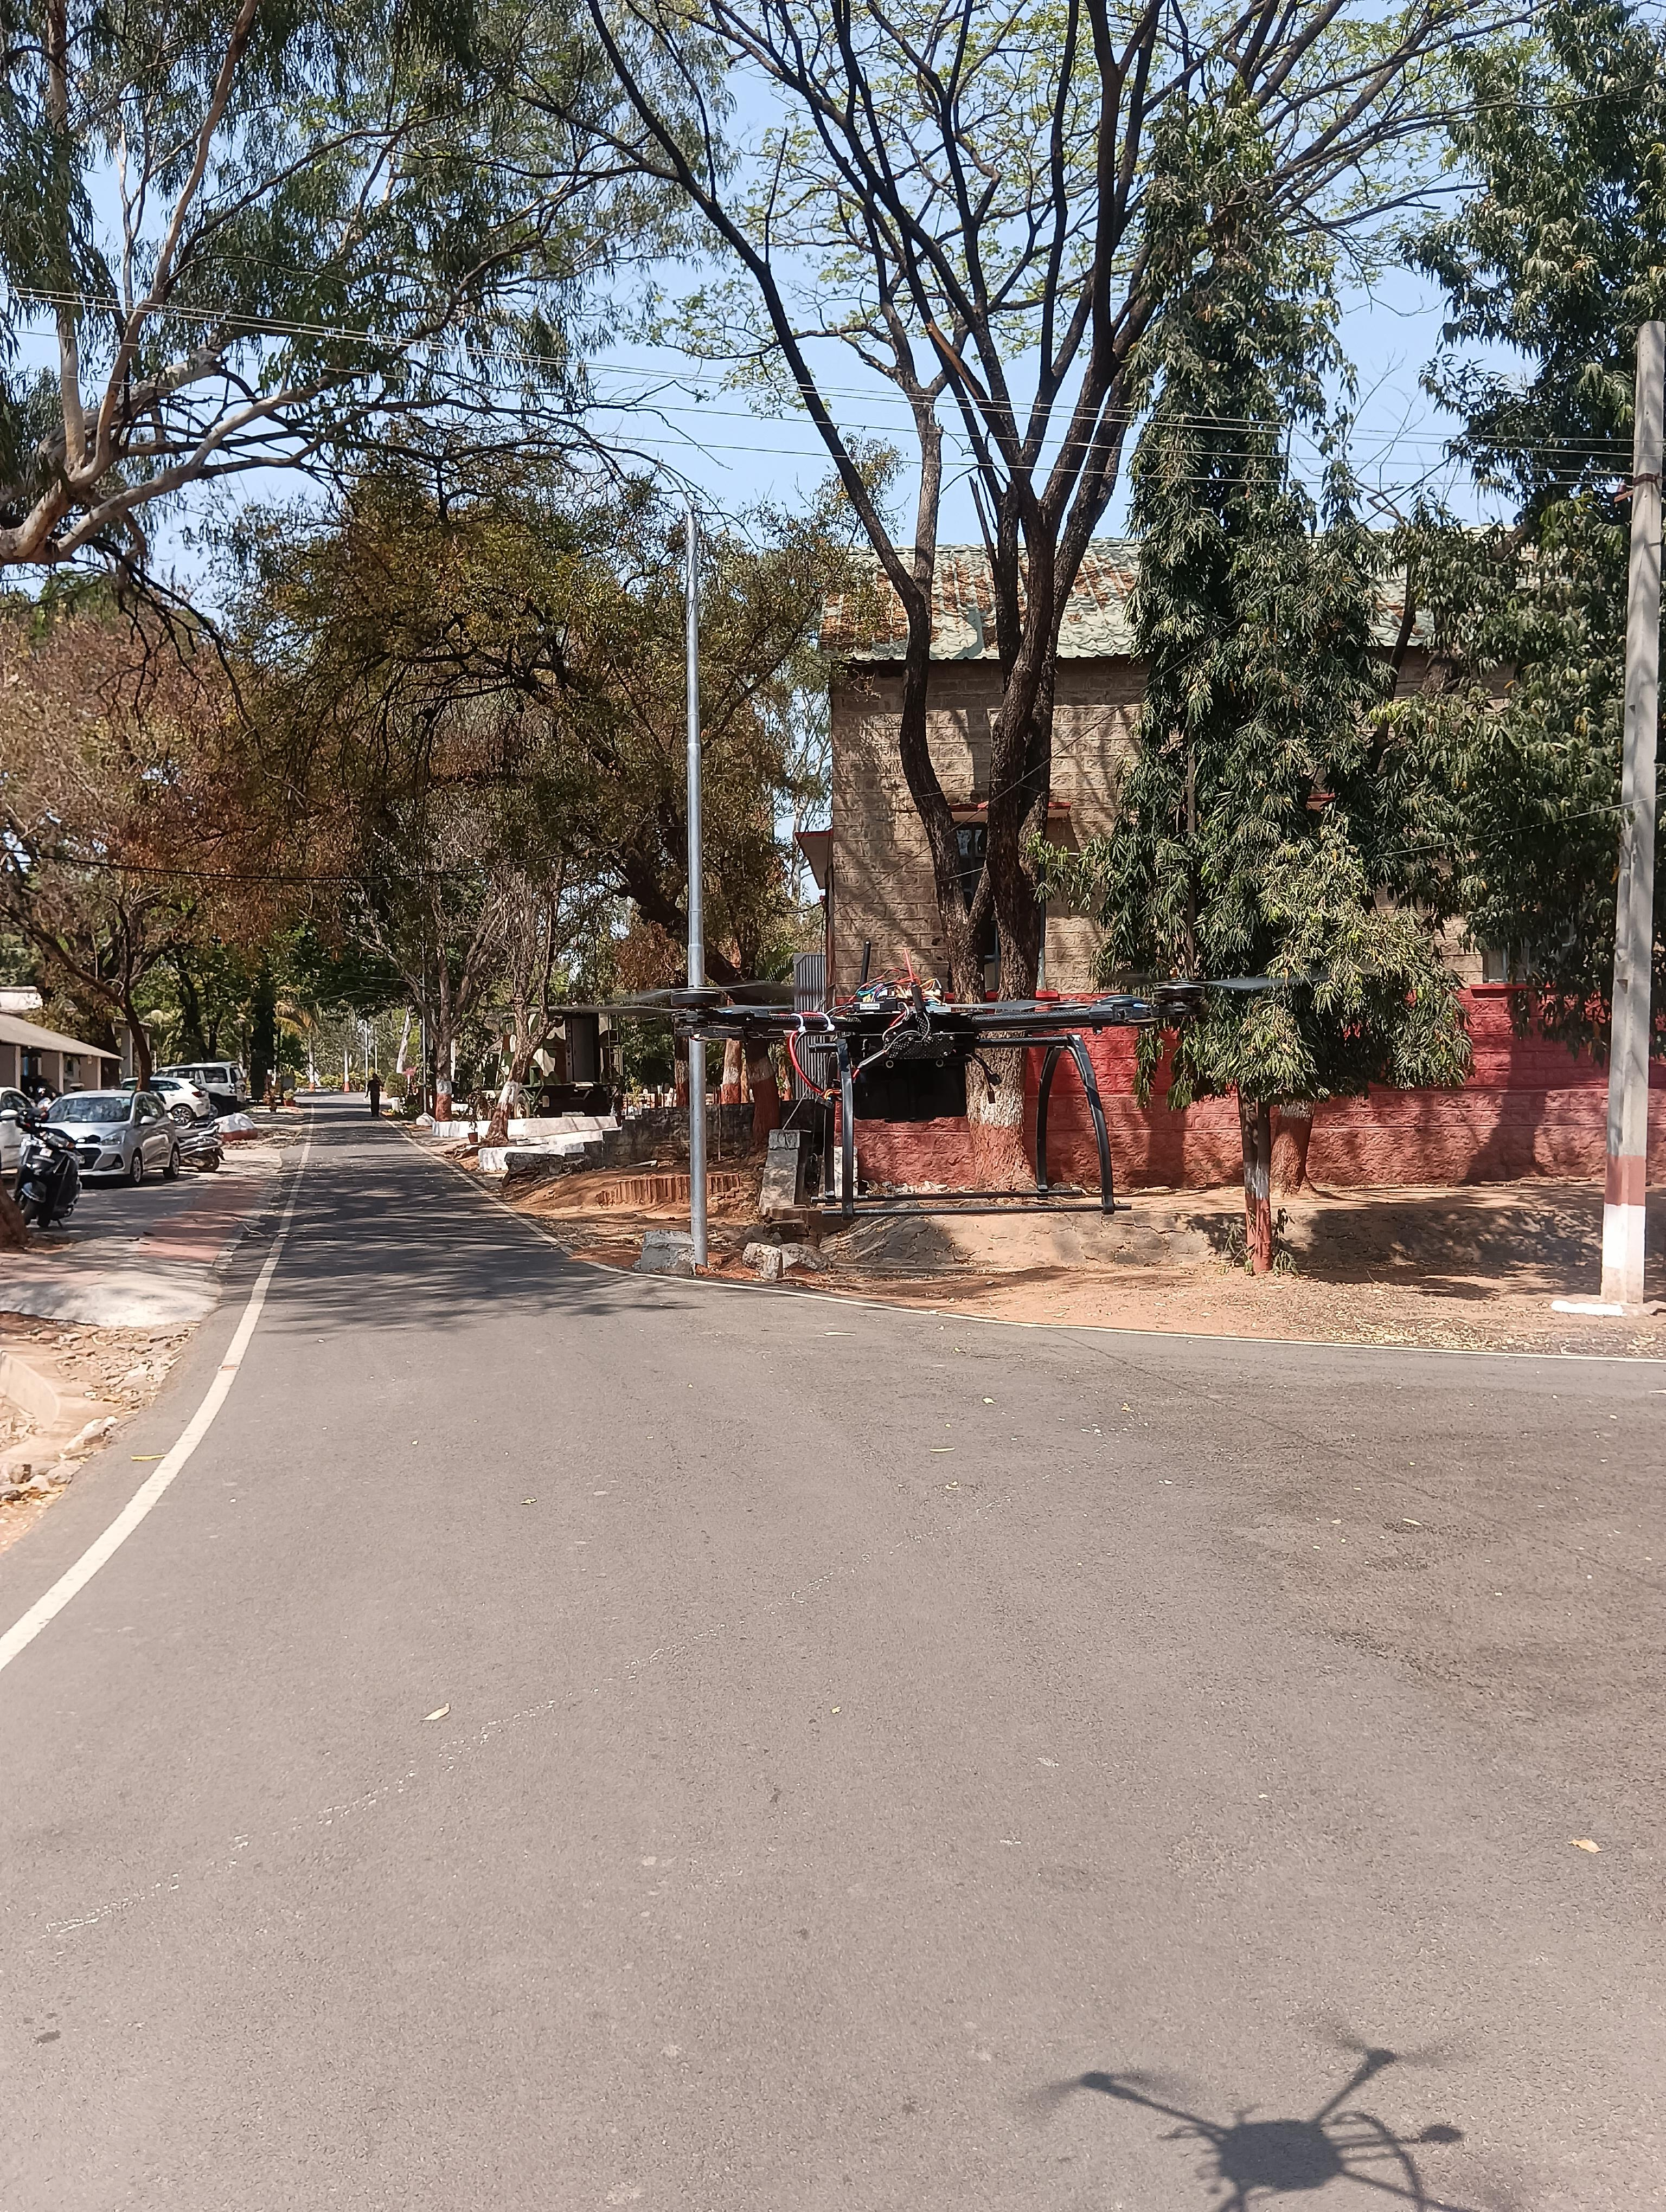drone: (522, 874, 1233, 1257)
